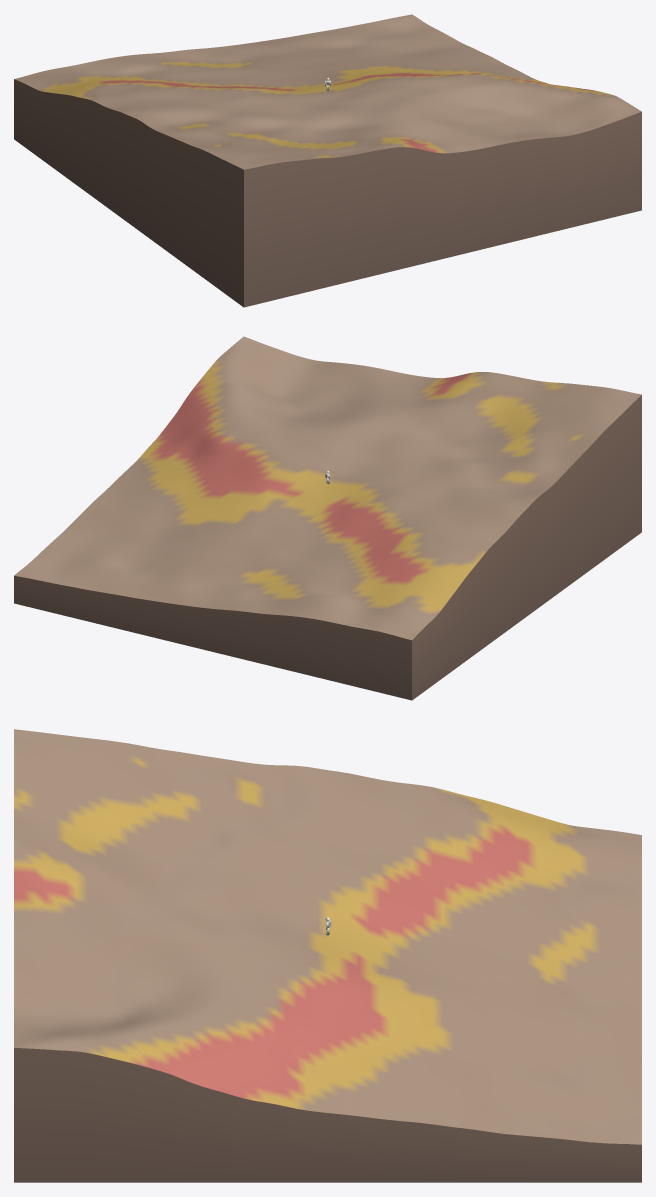
Rendered from wp1-ridge-flank.glb.
The picture shows the model from 3 angles, top to bottom: view 1: azimuth 30°, elevation 25°; view 2: azimuth 150°, elevation 25°; view 3: azimuth 270°, elevation 25°; orthographic projection. The views are drawn at different scales.
Parts seen in each view (by area): view 1: wp1-ridge-flank; view 2: wp1-ridge-flank; view 3: wp1-ridge-flank.
Boxes of the visible parts, <box> form: wp1-ridge-flank: <box>14,14,641,307</box>; wp1-ridge-flank: <box>14,336,641,700</box>; wp1-ridge-flank: <box>14,729,641,1182</box>.
Bounding box in the file's own units: 59.94 × 19.82 × 59.94.
